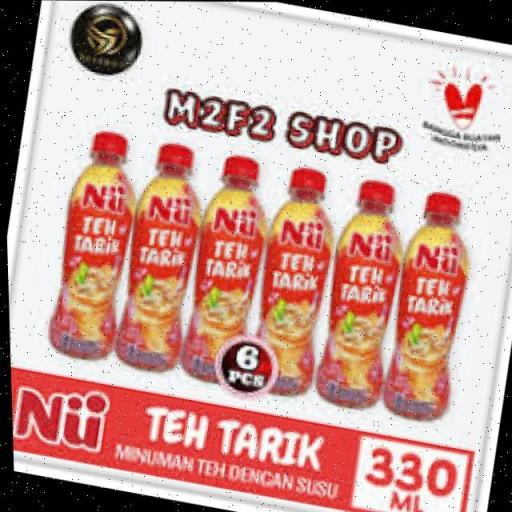plastic: (26, 116, 153, 374), (168, 141, 284, 398), (102, 130, 216, 386), (236, 161, 351, 410), (304, 172, 418, 414), (372, 186, 486, 427)
